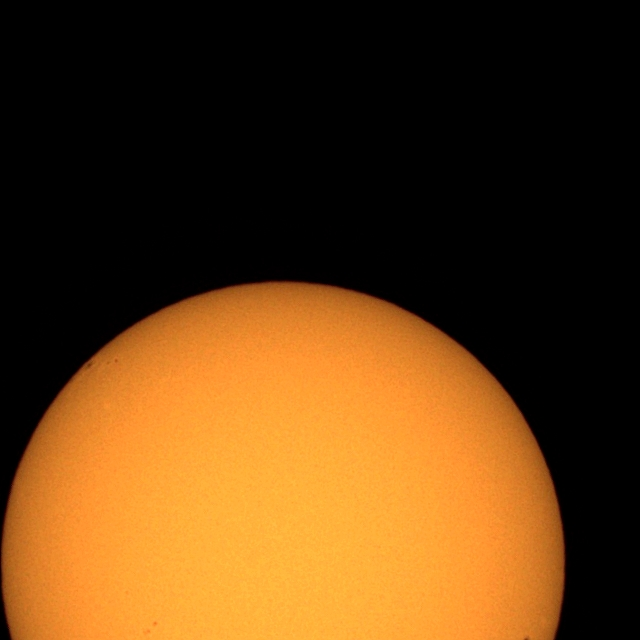sunspot: (143, 620, 158, 636)
